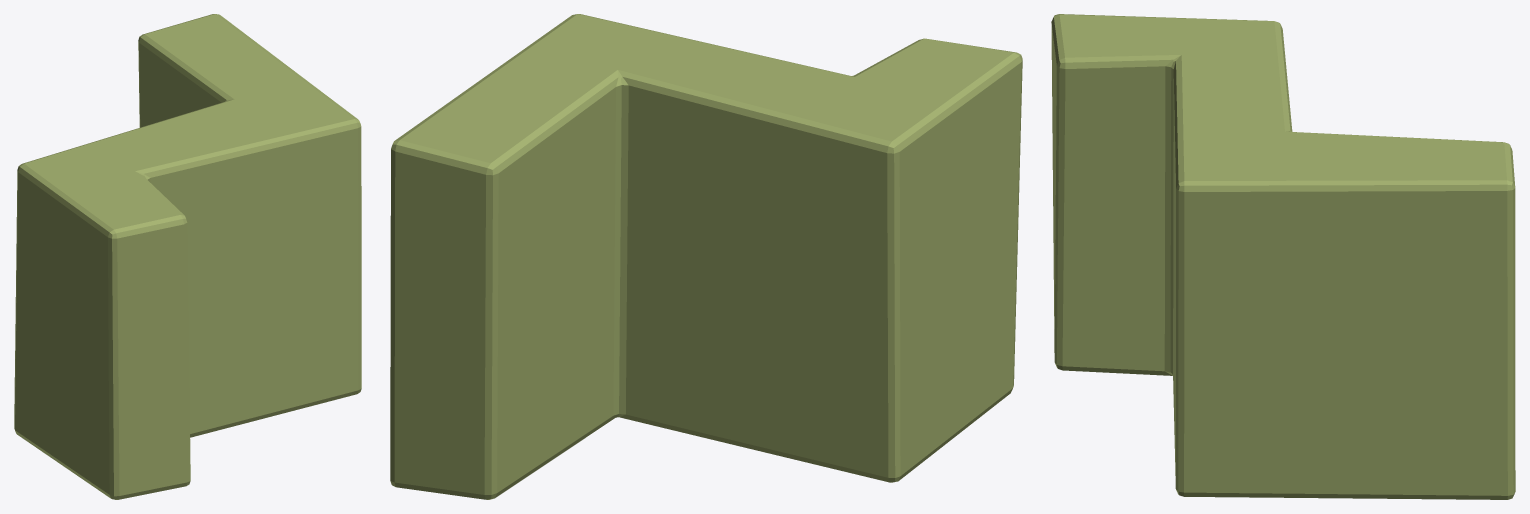
The model's file is Wall piece 4 collider.fbx.
The picture shows the model from 3 angles, left to right: view 1: azimuth 30°, elevation 25°; view 2: azimuth 150°, elevation 25°; view 3: azimuth 270°, elevation 25°; orthographic projection. The views are drawn at different scales.
Visible parts, largest first — view 1: wall piece 4 collider; view 2: wall piece 4 collider; view 3: wall piece 4 collider.
Part boxes in pixels (left/top/right/bottom): wall piece 4 collider: left=14, top=14, right=361, bottom=499; wall piece 4 collider: left=390, top=14, right=1022, bottom=499; wall piece 4 collider: left=1051, top=14, right=1515, bottom=499.
Bounding box in the file's own units: 500 × 566 × 438.
